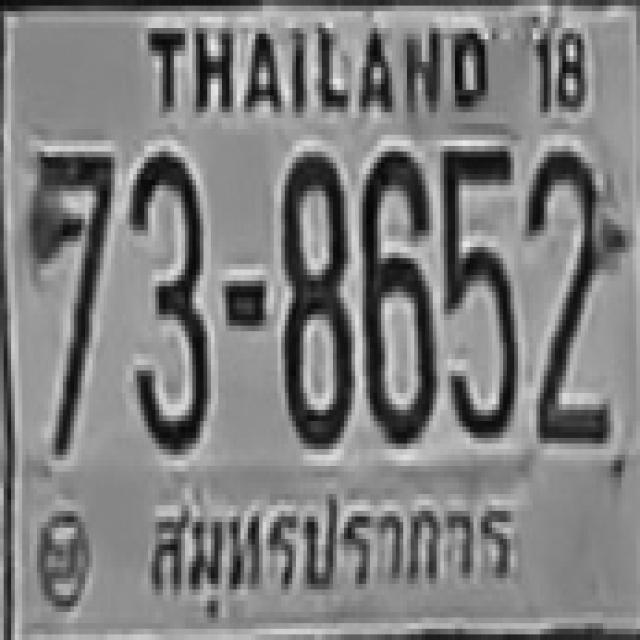2: (525, 146, 613, 444)
3: (126, 146, 207, 449)
5: (440, 143, 514, 435)
6: (359, 148, 433, 440)
7: (26, 149, 111, 452)
8: (281, 149, 352, 446)
SamutPrakan: (140, 482, 522, 621)
